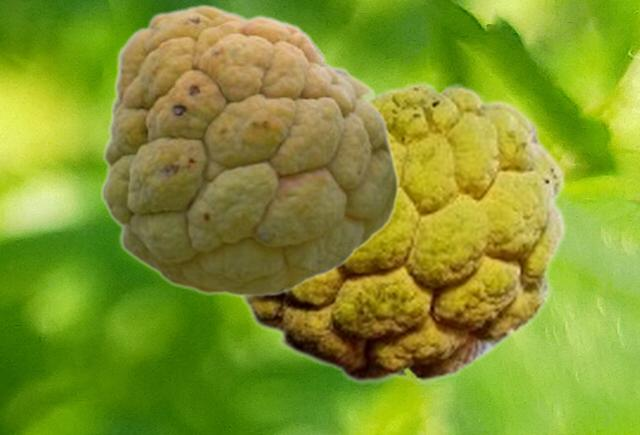atis: (235, 81, 566, 383), (99, 3, 398, 296)
